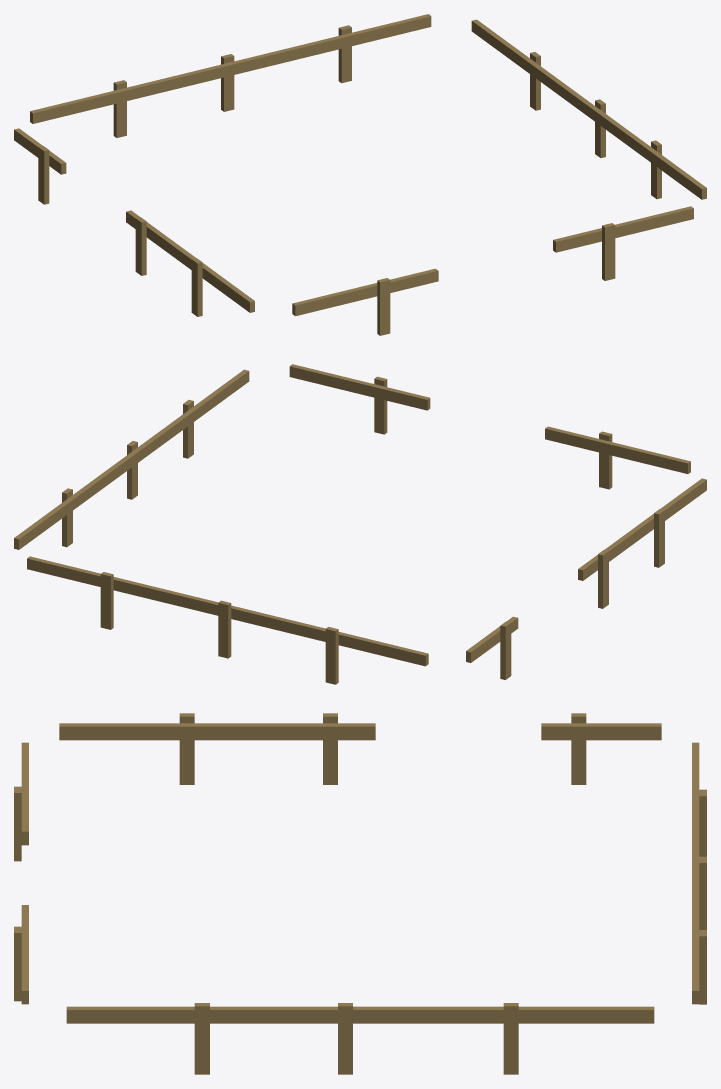
The model's file is cabin-1.obj.
3 renders of one model, top to bottom at view 1: azimuth 30°, elevation 25°; view 2: azimuth 150°, elevation 25°; view 3: azimuth 270°, elevation 25°, orthographic. The views are drawn at different scales.
Bounding box in the file's own units: 9.2 × 1 × 9.2.
Materials: 1 (1 with a texture image).
